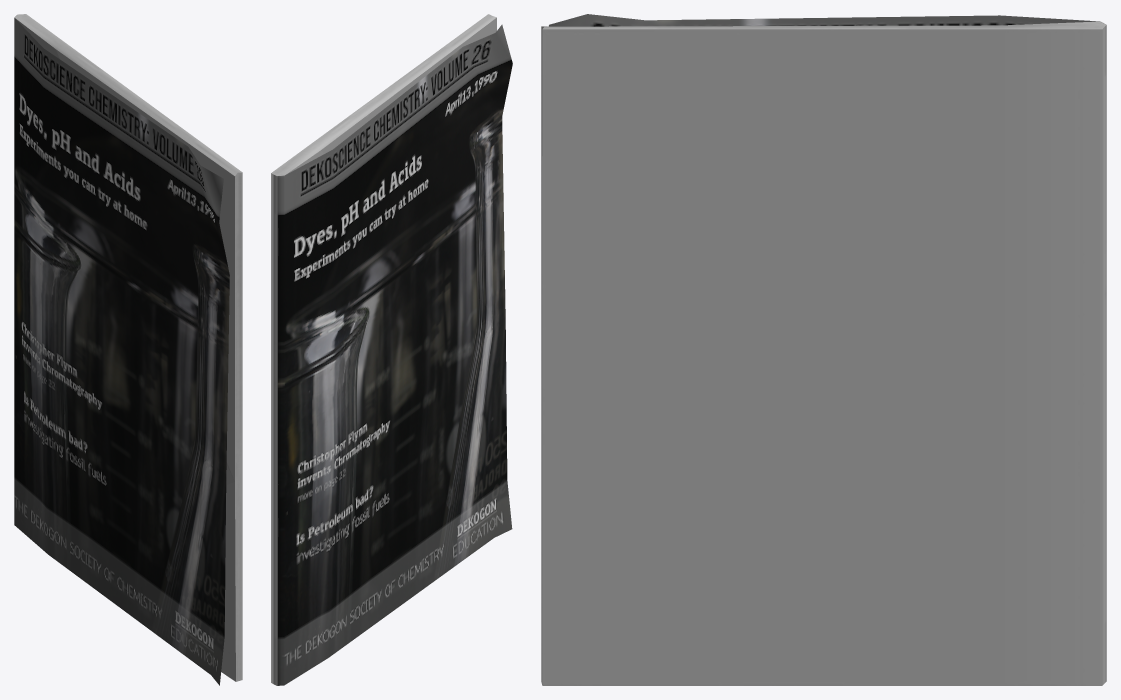
The model's file is SM_Magazines_01d.fbx.
3 renders of one model, left to right at view 1: azimuth 30°, elevation 25°; view 2: azimuth 150°, elevation 25°; view 3: azimuth 270°, elevation 25°, orthographic. The views are drawn at different scales.
Visible parts, largest first — view 1: SM_Magazines_01d_LOD0; view 2: SM_Magazines_01d_LOD0; view 3: SM_Magazines_01d_LOD0.
Part boxes in pixels (x1,y1,x2,y2): SM_Magazines_01d_LOD0: [14, 14, 242, 685]; SM_Magazines_01d_LOD0: [271, 14, 512, 685]; SM_Magazines_01d_LOD0: [541, 14, 1106, 685].
Size of the model in its own units: 1.37 by 21.31 by 27.3.
Materials: 1 (1 with a texture image).
